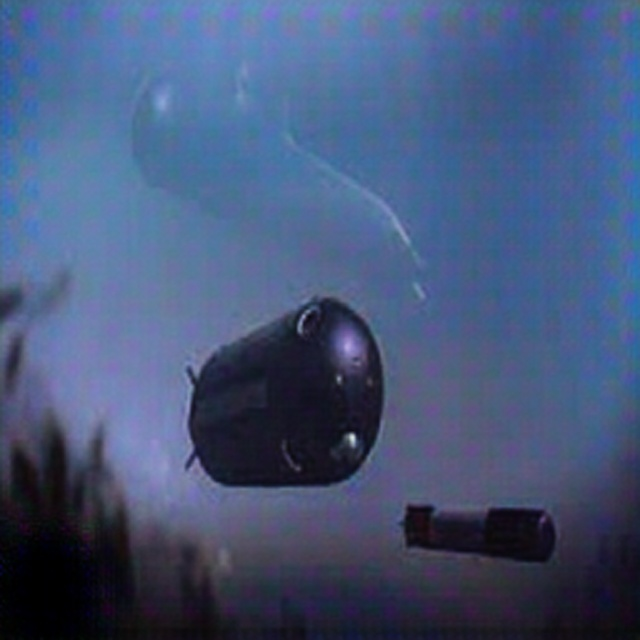submarine: (129, 43, 451, 317), (179, 276, 389, 534), (398, 498, 563, 567)
